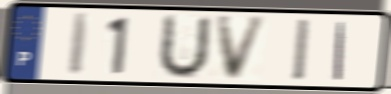1: (104, 15, 134, 76)
I: (67, 12, 93, 79), (292, 16, 313, 83), (331, 20, 348, 82)
U: (154, 12, 214, 82)
V: (214, 14, 271, 83)
